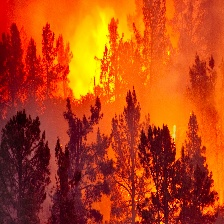fire: (66, 11, 140, 96), (168, 123, 179, 142)
